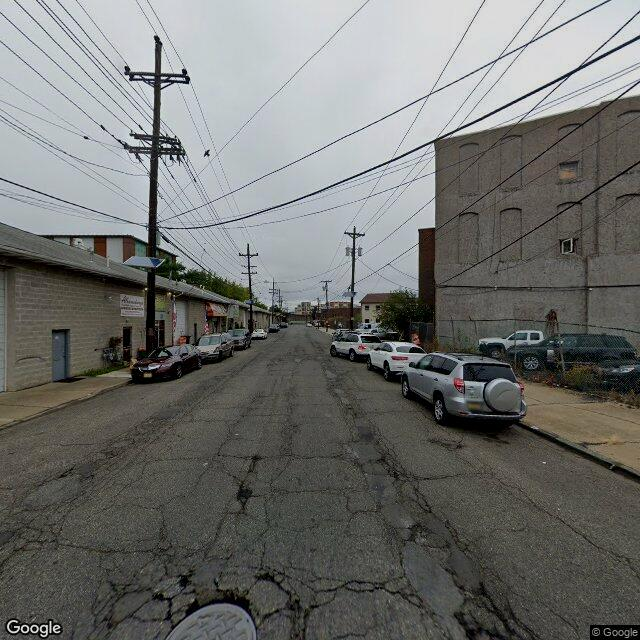pothole: (207, 578, 250, 611), (455, 615, 508, 640), (231, 483, 255, 515), (252, 568, 282, 588), (146, 583, 169, 609), (174, 570, 198, 592), (248, 450, 266, 467)
